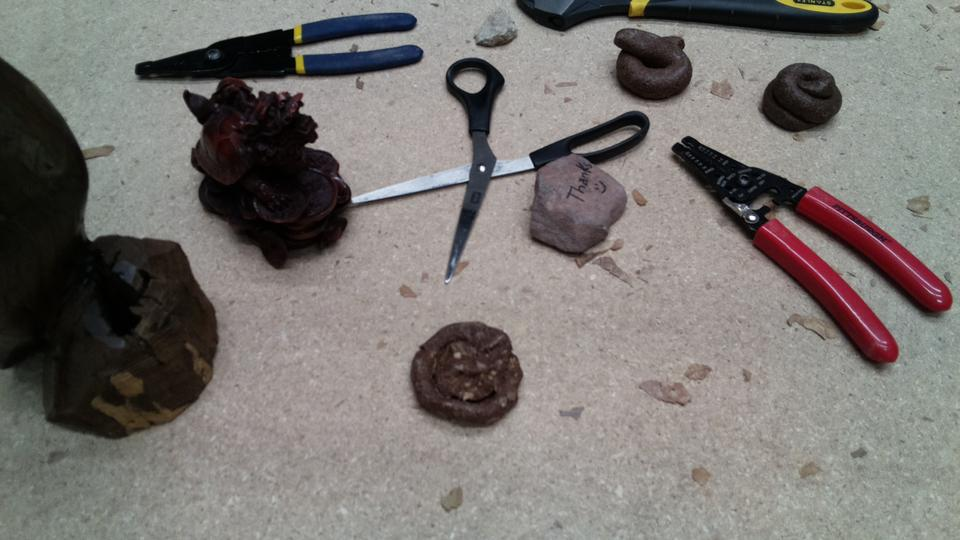poop: (407, 317, 527, 432), (758, 57, 846, 135), (613, 25, 697, 103)
